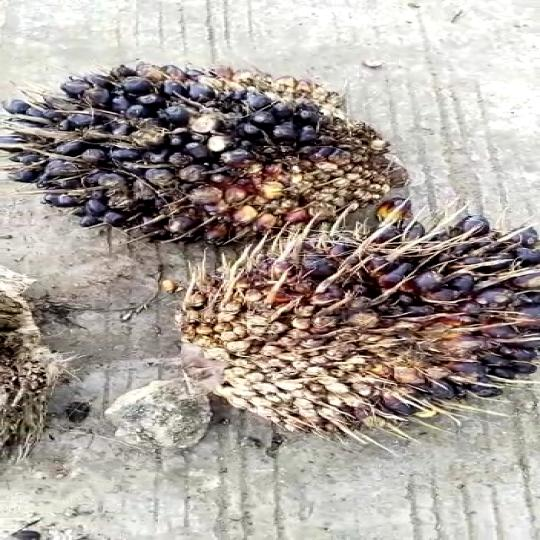mentah: (130, 194, 540, 465), (5, 49, 421, 250)
